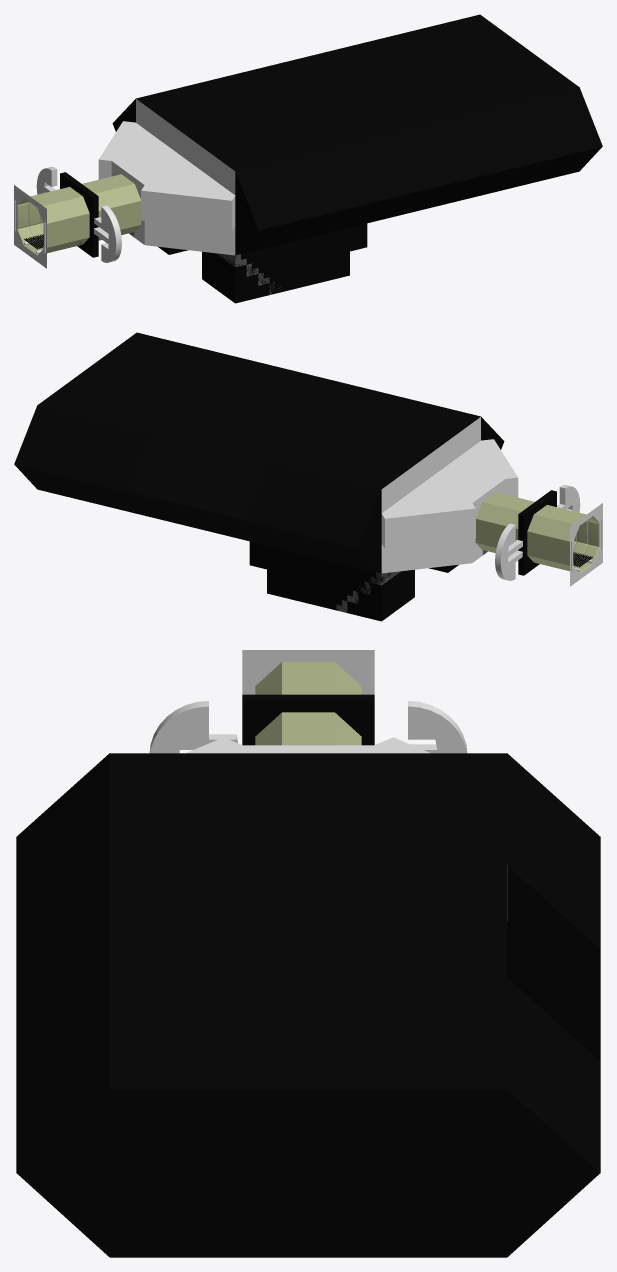
File: Spaceship.fbx
3 views of the same model, one above another, from view 1: azimuth 30°, elevation 25°; view 2: azimuth 150°, elevation 25°; view 3: azimuth 270°, elevation 25° (orthographic). The views are drawn at different scales.
Visible parts, largest first — view 1: Floor.012, Floor.043, Floor.058, Floor.042, Floor.044, Floor.057, Floor.041, Hall.012, Floor.025, Floor.026, Hall.005, Floor.079 (+38 smaller); view 2: Floor.010, Floor.059, Floor.060, Floor.063, Floor.064, Hall.012, Floor.027, Floor.028, Hall.005, Floor.076, Floor.080, Floor.077 (+43 smaller); view 3: Floor.066, Floor.067, Floor.069, Floor.070, Floor.065, Floor.068, Floor.076, Floor.079, Floor.075, Floor.078, Floor.081, Floor.084 (+38 smaller).
Boxes of the visible parts, <box> form: Floor.012: <box>141,185,235,255</box>; Floor.043: <box>350,129,430,202</box>; Floor.058: <box>522,87,602,160</box>; Floor.042: <box>292,143,373,216</box>; Floor.044: <box>407,115,487,188</box>; Floor.057: <box>465,101,545,174</box>; Floor.041: <box>235,157,315,230</box>; Hall.012: <box>17,187,89,255</box>; Floor.025: <box>292,227,349,289</box>; Floor.026: <box>235,241,292,303</box>; Hall.005: <box>82,174,141,240</box>; Floor.079: <box>308,42,398,80</box>; Floor.010: <box>381,503,475,573</box>; Floor.059: <box>14,405,94,478</box>; Floor.060: <box>71,419,151,492</box>; Floor.063: <box>243,461,324,534</box>; Floor.064: <box>301,475,381,548</box>; Hall.012: <box>527,505,599,573</box>; Floor.027: <box>267,545,324,607</box>; Floor.028: <box>324,559,381,621</box>; Hall.005: <box>475,492,534,552</box>; Floor.076: <box>210,423,299,461</box>; Floor.080: <box>218,360,308,398</box>; Floor.077: <box>276,374,365,412</box>; Floor.066: <box>374,1173,507,1257</box>; Floor.067: <box>109,1173,242,1257</box>; Floor.069: <box>374,1089,507,1173</box>; Floor.070: <box>109,1089,242,1173</box>; Floor.065: <box>242,1173,374,1257</box>; Floor.068: <box>242,1089,374,1173</box>; Floor.076: <box>374,865,507,921</box>; Floor.079: <box>374,921,507,977</box>; Floor.075: <box>242,865,374,921</box>; Floor.078: <box>242,921,374,977</box>; Floor.081: <box>242,977,374,1033</box>; Floor.084: <box>242,1033,374,1089</box>.
Size of the model in its own units: 8720 by 2204 by 4407.
